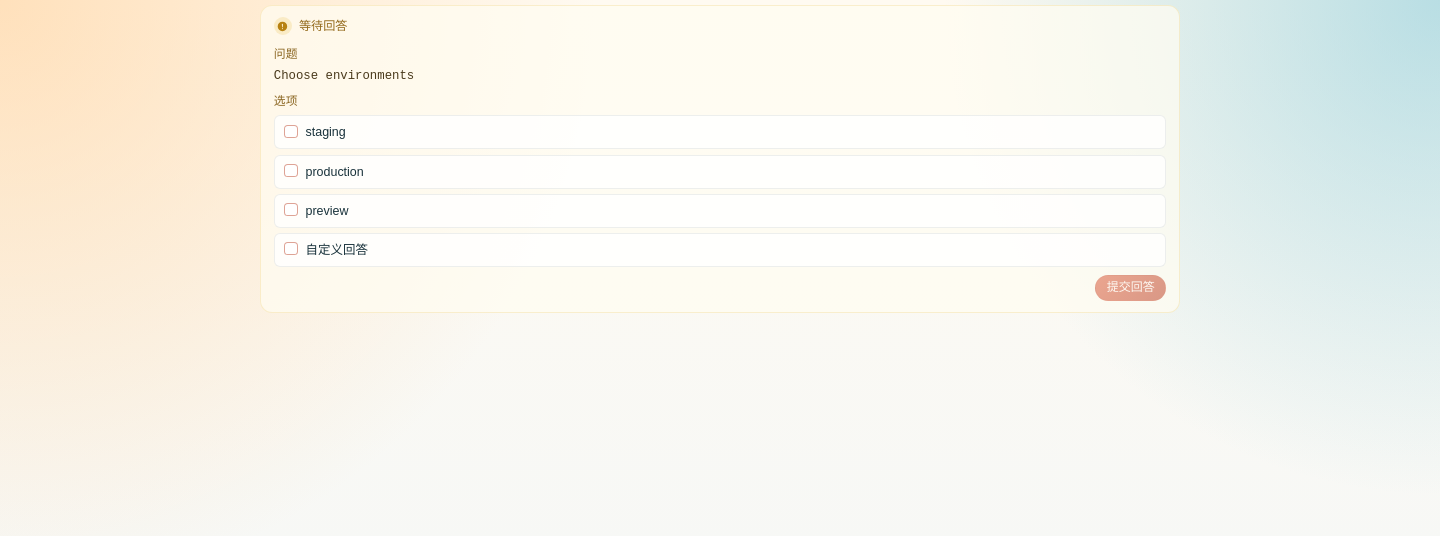
Test case: MessageList › switches multi-select questions to custom-only when custom answer is chosen
The width and height of the screenshot is (1440, 536).
Step 1. Click the button "staging" → [326, 132], box [274,115,1166,150]
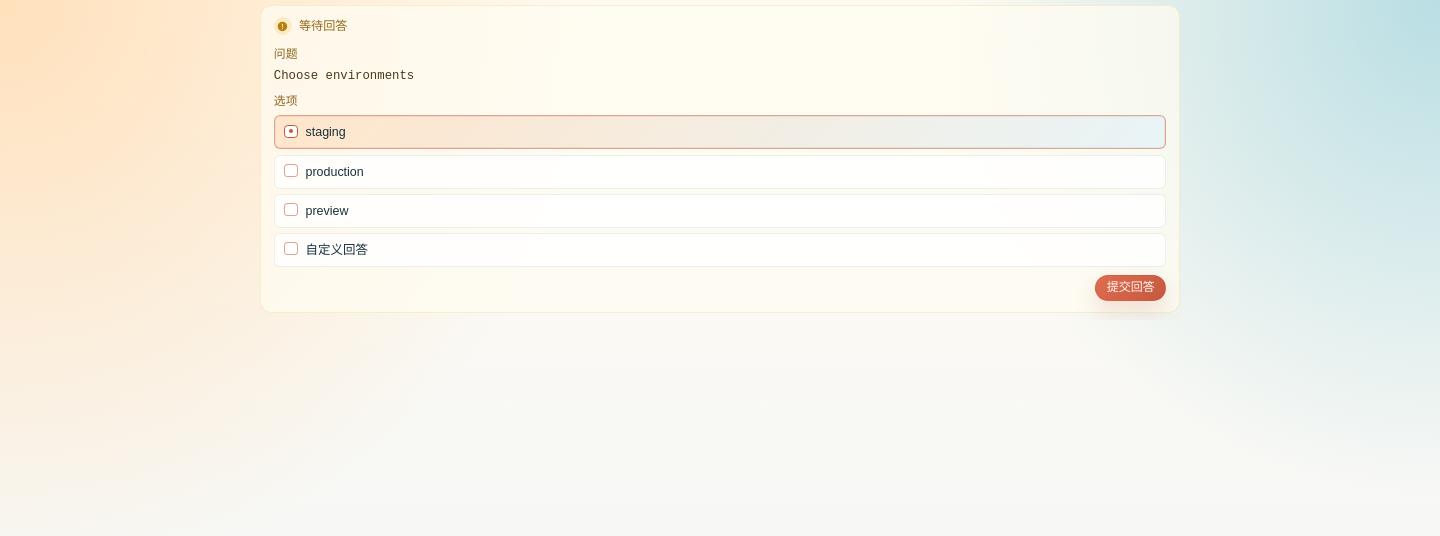
Step 2. Click the button "preview" → [327, 211], box [274,194,1166,228]
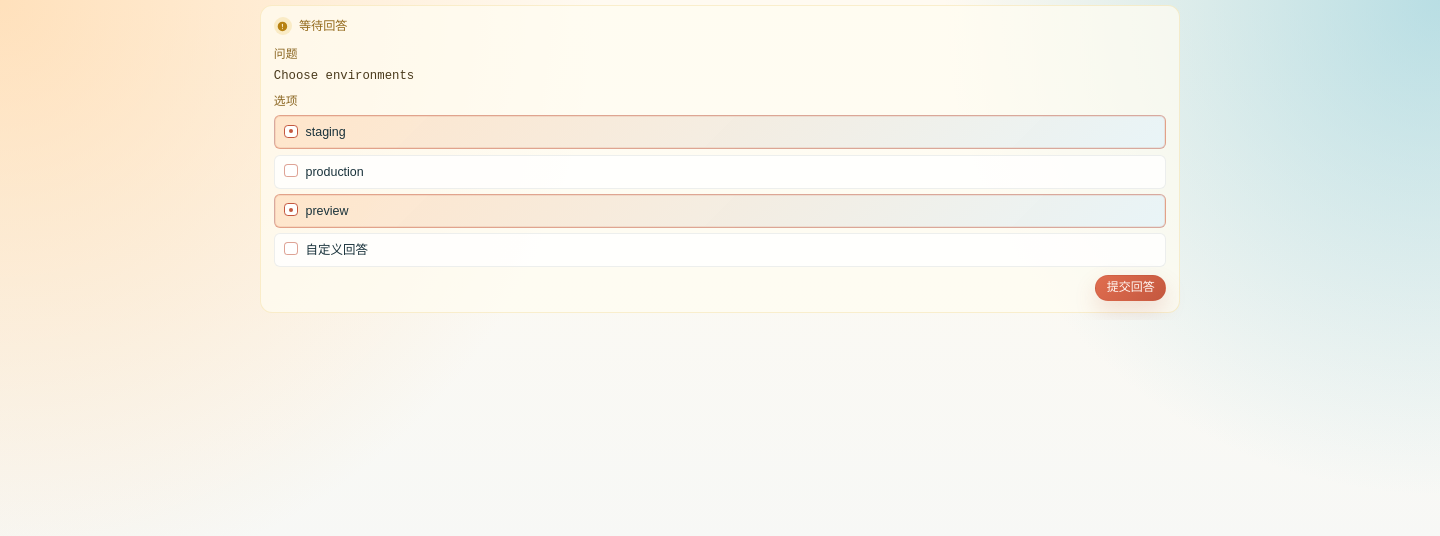
Check: the button "staging" has class "selected", box [274,115,1166,150]
Check: the button "preview" has class "selected", box [274,194,1166,228]
Step 3. Click the button "自定义回答" → [337, 250], box [274,233,1166,267]
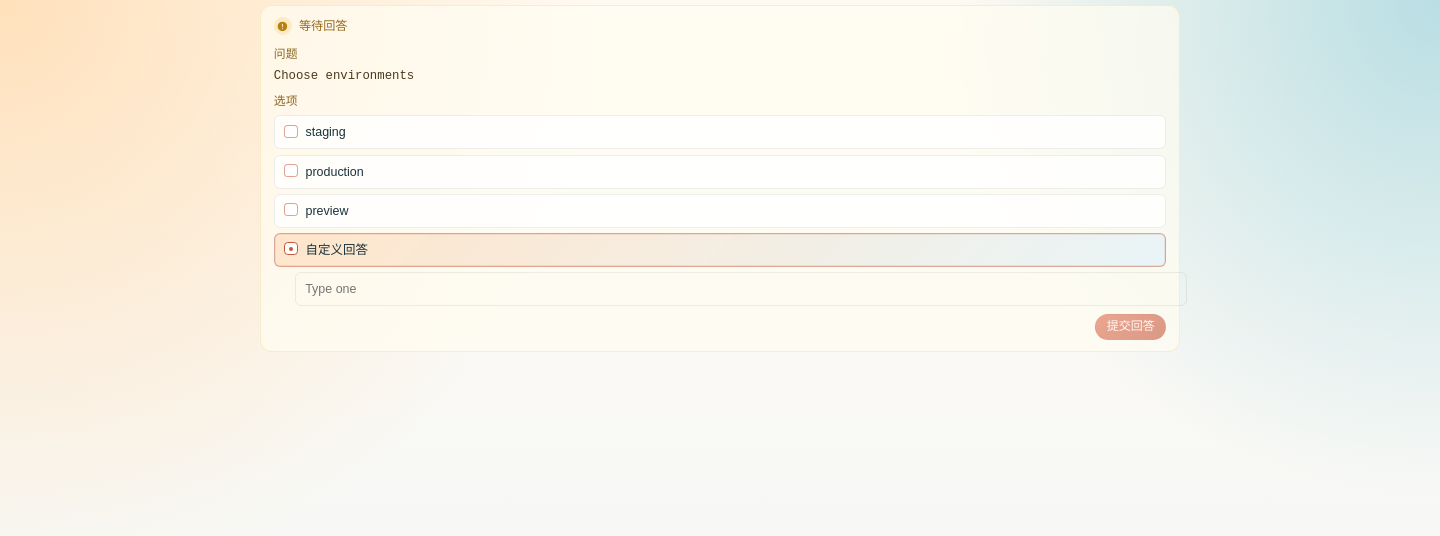
Check: the field with placeholder "Type one" is shown, box [295,272,1187,306]
